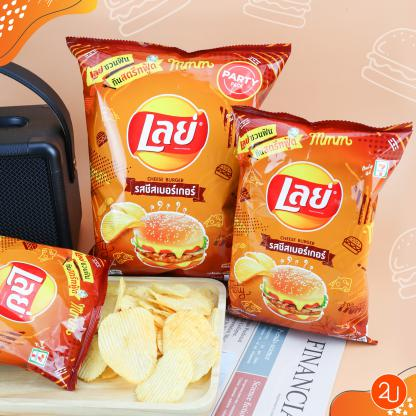potatochip: (55, 33, 299, 283), (210, 94, 414, 352), (0, 223, 114, 397)
